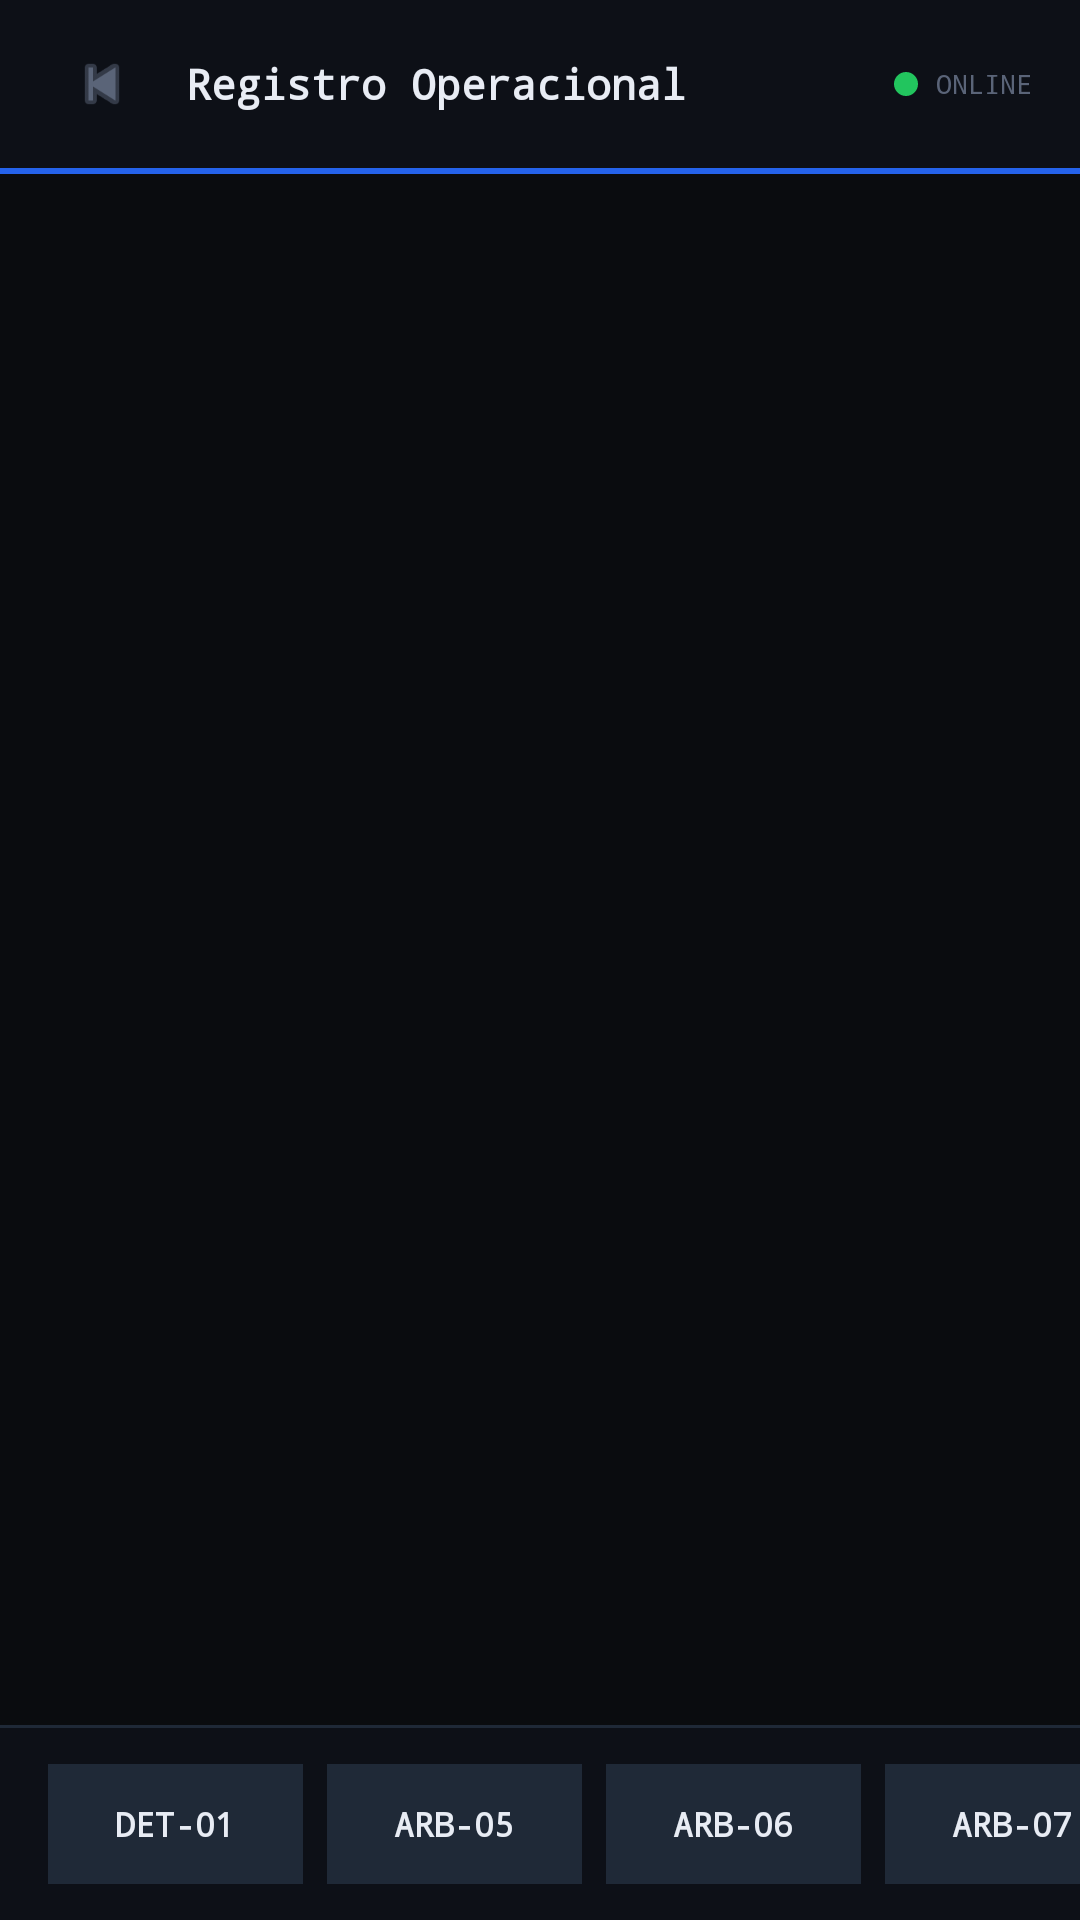

Named icons in this screenshot (1080px×1920px) and their bounding boxes, {"x1": x1, "y1": y1, "x2": x2, "y2": y2}:
previous: {"x1": 85, "y1": 64, "x2": 119, "y2": 104}
